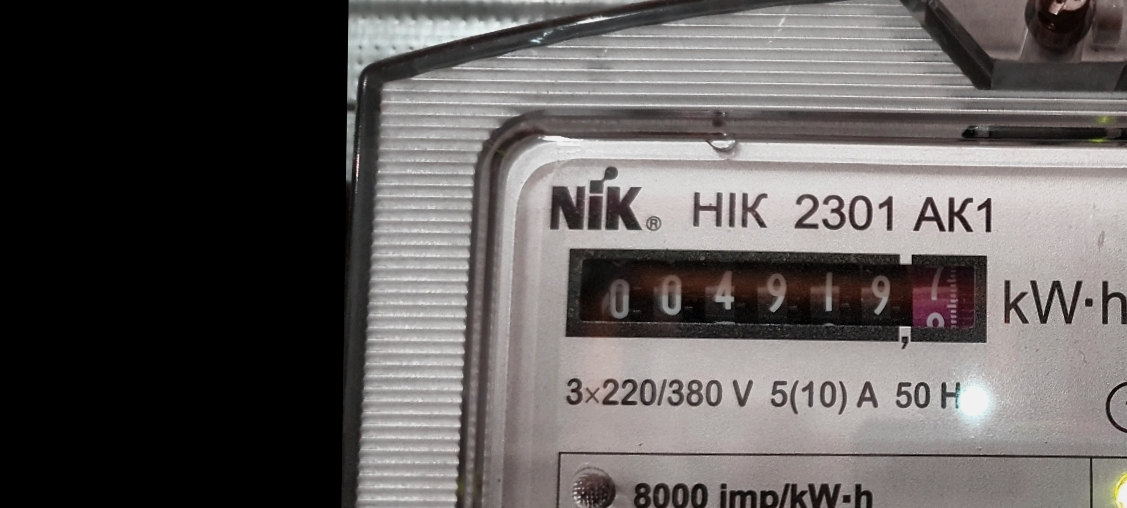0: (658, 271, 685, 316), (607, 275, 631, 319)
1: (821, 268, 836, 313)
4: (711, 267, 736, 310)
7: (922, 263, 945, 302)
9: (868, 271, 892, 318), (764, 271, 788, 314)
screen: (554, 234, 1005, 360)
